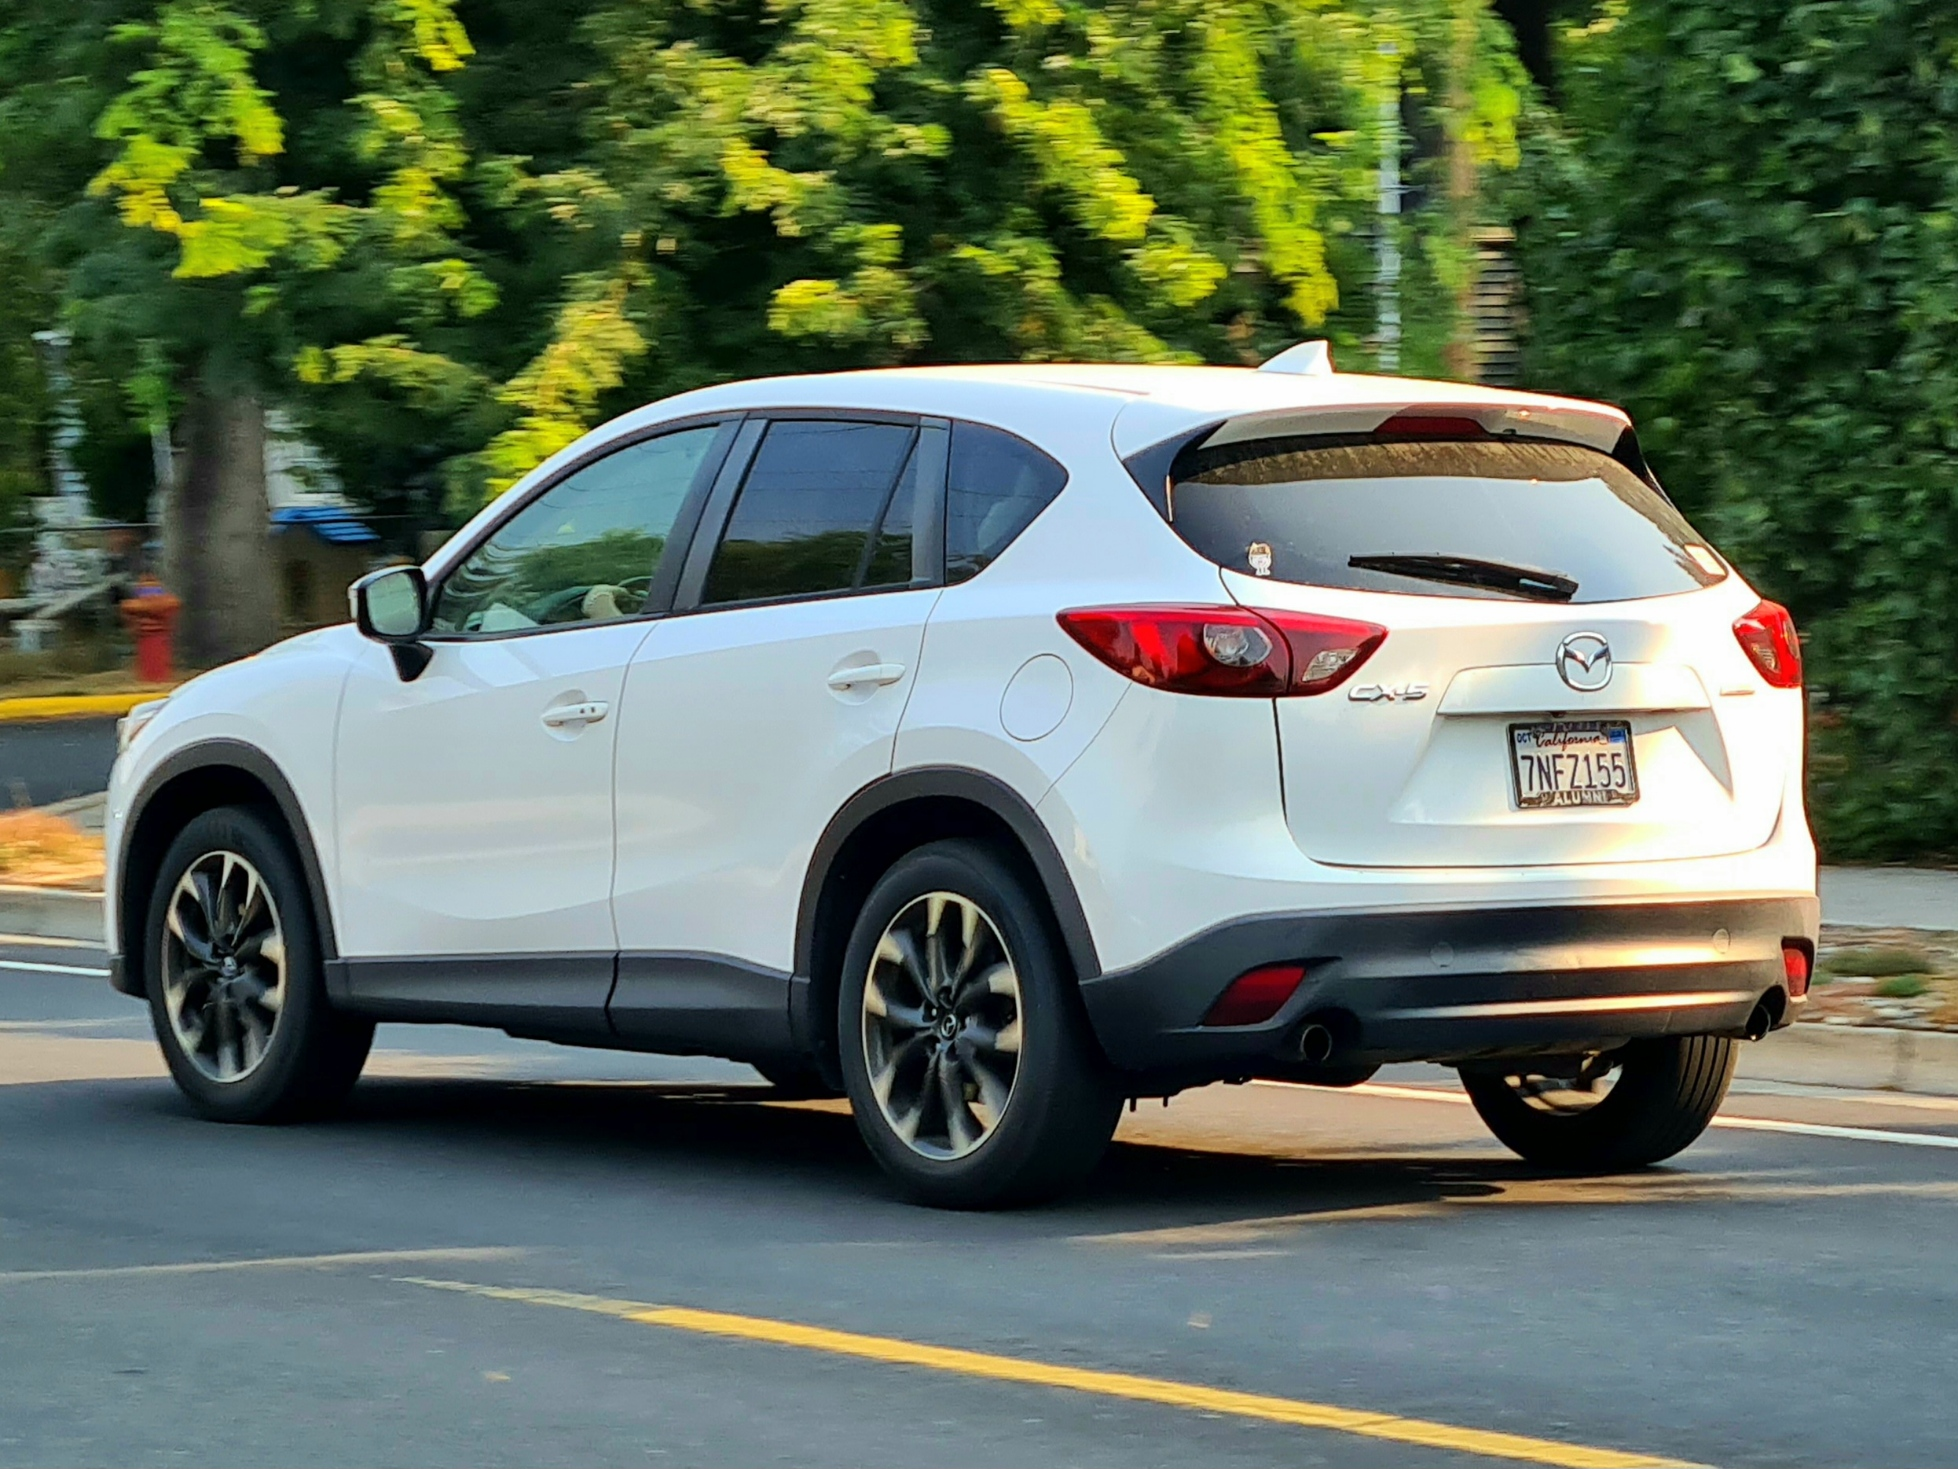license plate: (1504, 731, 1643, 807)
